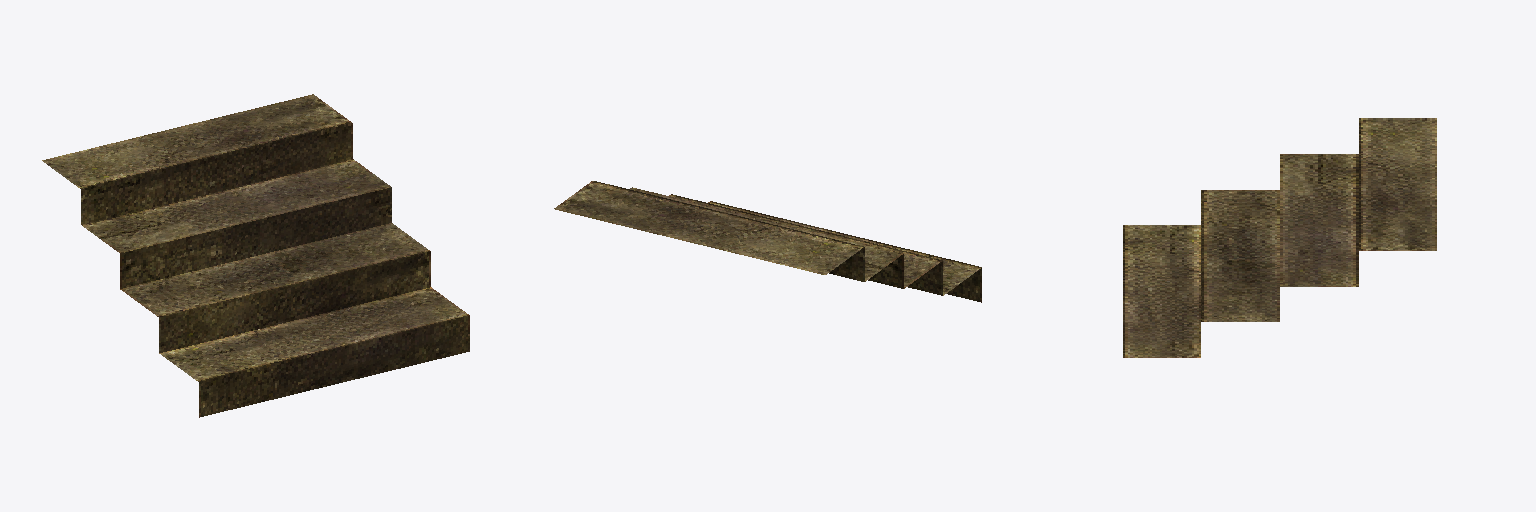
3 views of the same model, side by side, from view 1: azimuth 30°, elevation 25°; view 2: azimuth 150°, elevation 25°; view 3: azimuth 270°, elevation 25° (orthographic).
Visible parts, largest first — view 1: Box002; view 2: Box002; view 3: Box002.
Part boxes in pixels (left/top/right/bottom): Box002: left=42, top=94, right=469, bottom=417; Box002: left=554, top=181, right=981, bottom=302; Box002: left=1123, top=118, right=1436, bottom=357.
Bounding box in the file's own units: 1024 × 512 × 1024.
1 materials, 1 textured.